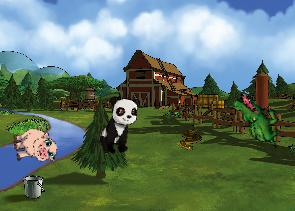crocodile: (223, 89, 292, 150)
panda: (97, 93, 141, 158)
pig: (10, 123, 58, 168)
